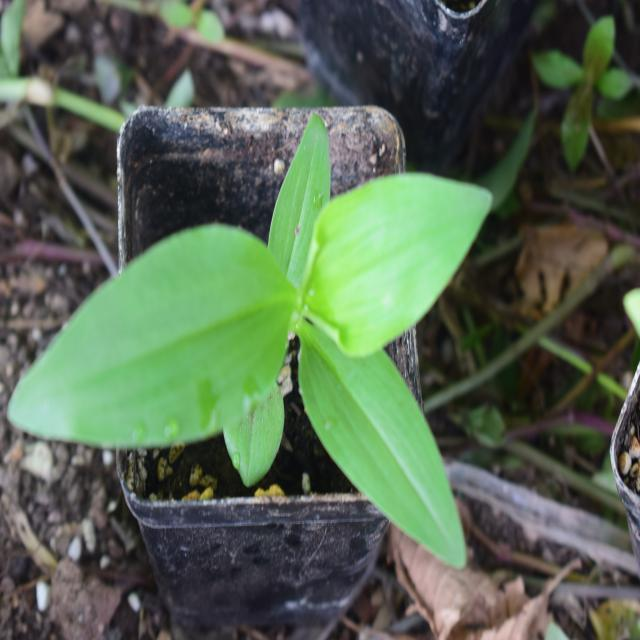Common Dayflower: (52, 135, 483, 541)
